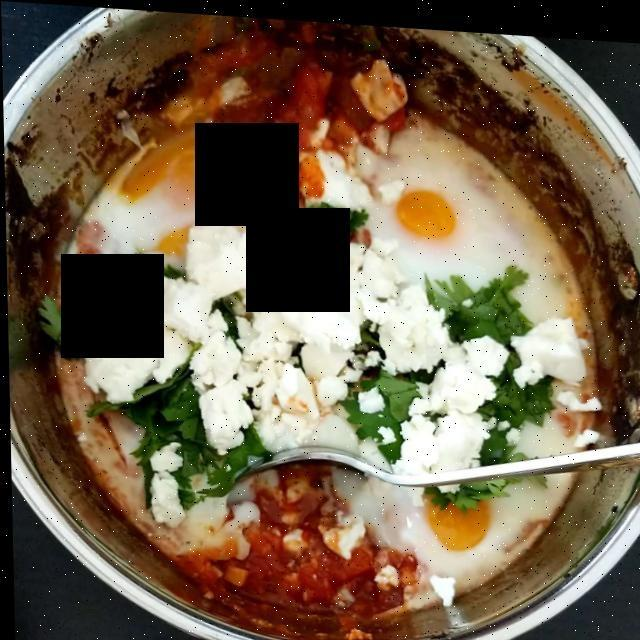cheese: (67, 138, 595, 533)
coriander: (130, 192, 545, 483)
tomato-sauce: (135, 41, 415, 618)
